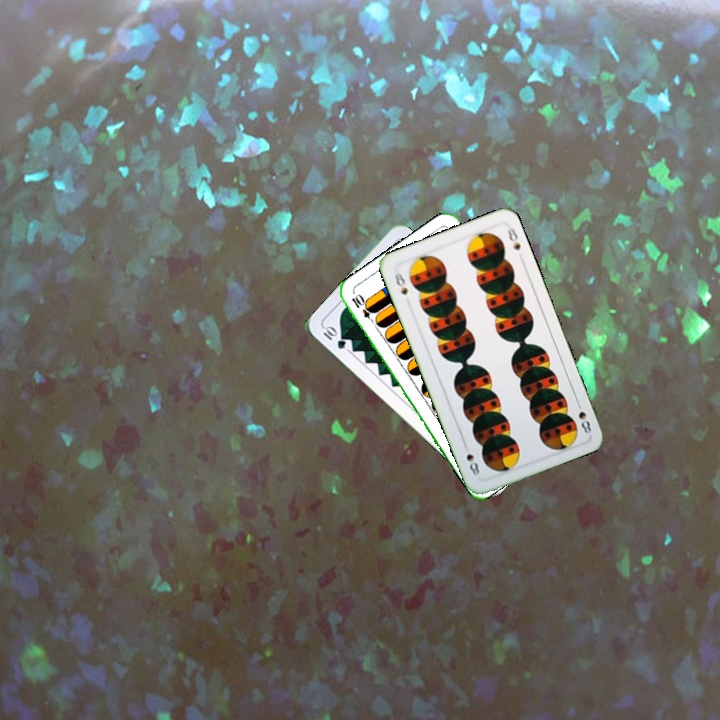E10: (348, 290, 379, 327)
G10: (319, 322, 349, 352)
S8: (572, 396, 594, 436), (390, 269, 410, 298)
